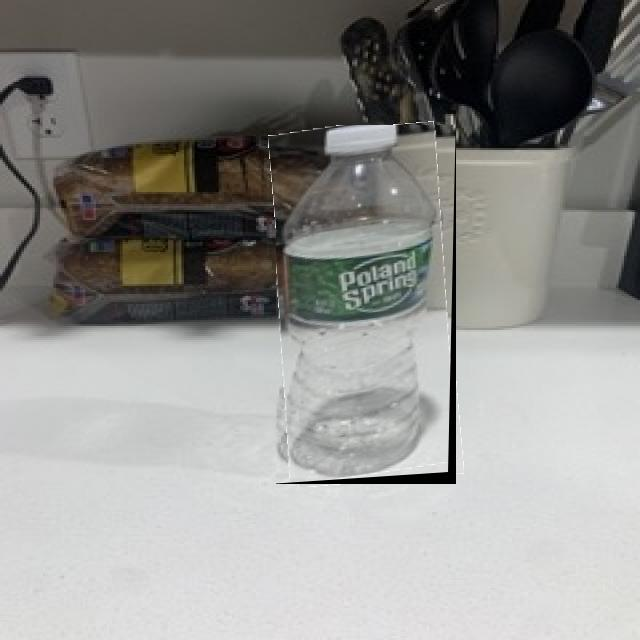water_bottle: (276, 125, 456, 484)
